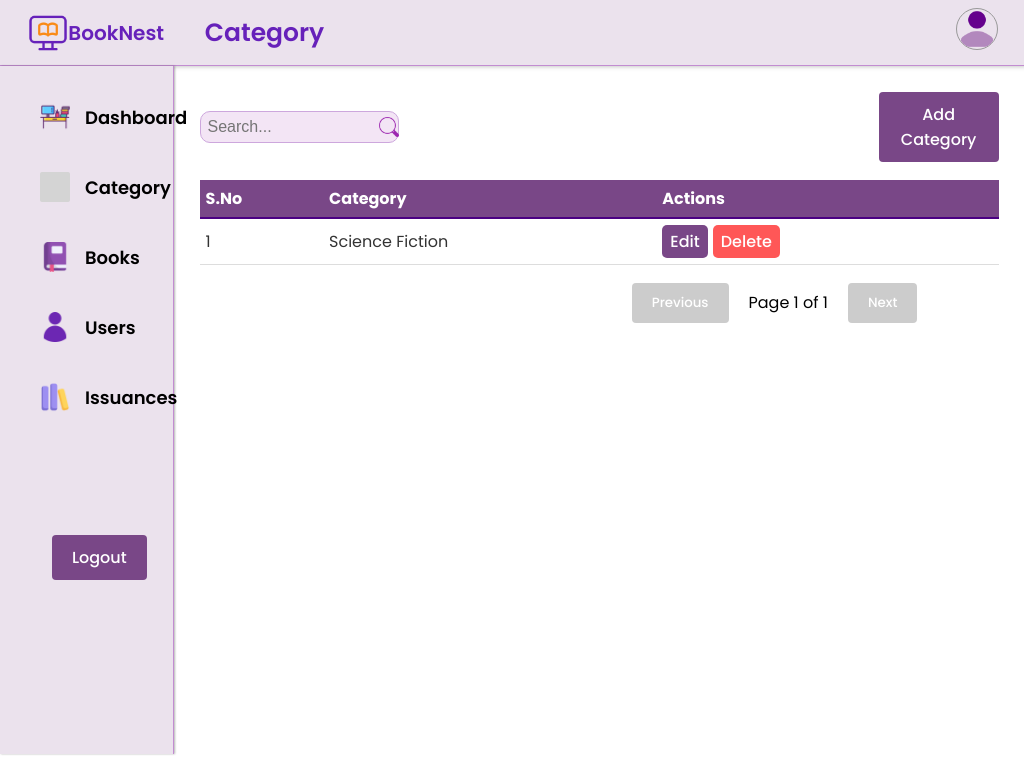
Category Component Delete Functionality › should handle successful category deletion
The image size is (1024, 768).
Expected: the text "Science Fiction" is shown, x1=323 y1=218 x2=656 y2=264
Click the button "Delete". click: (746, 241)
box: x1=713 y1=225 x2=780 y2=258
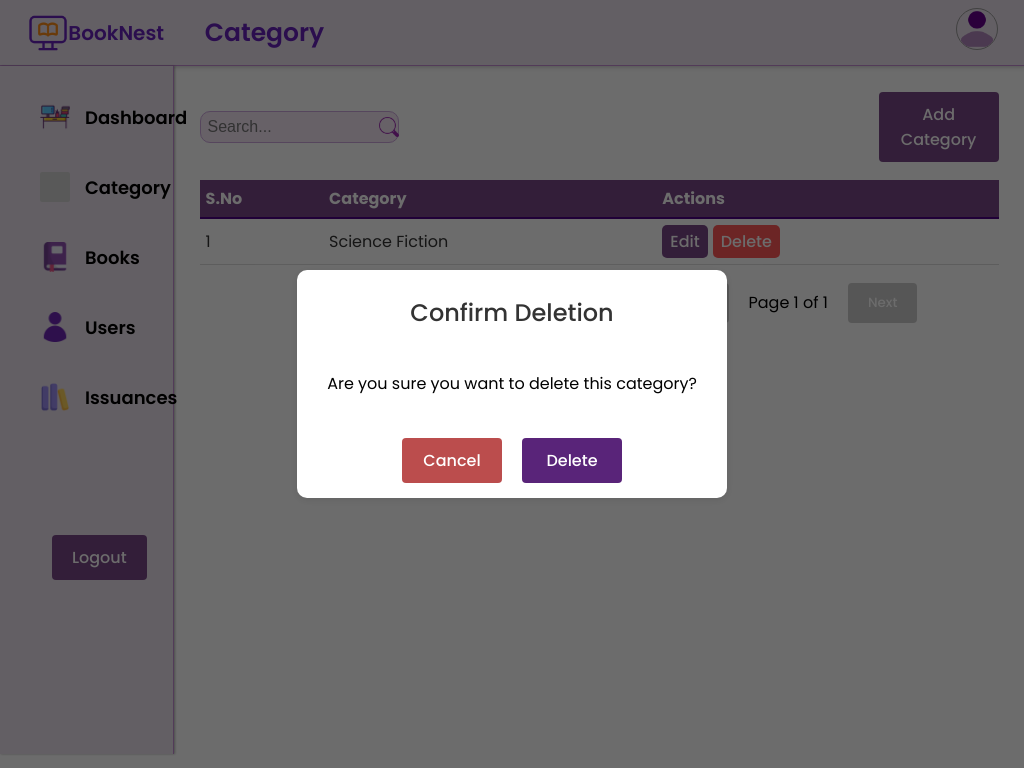
Click the button "Delete". click: (572, 461)
box: x1=522 y1=438 x2=622 y2=484
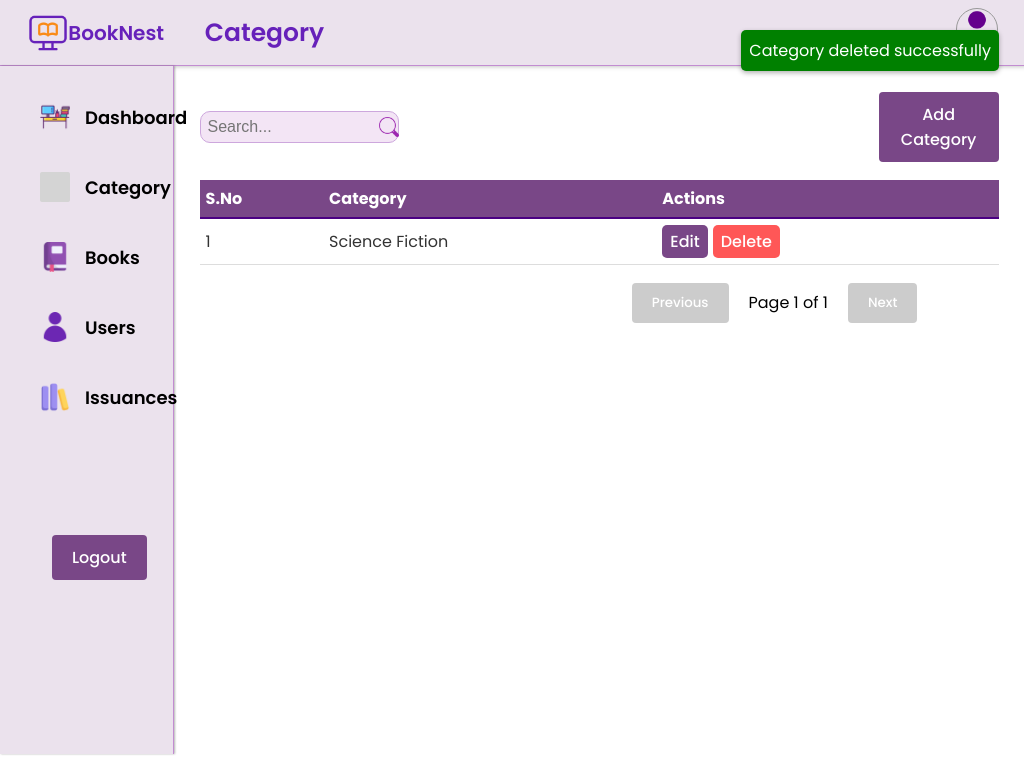
Expected: the text "Category deleted successfully" is shown, x1=749 y1=38 x2=991 y2=63
